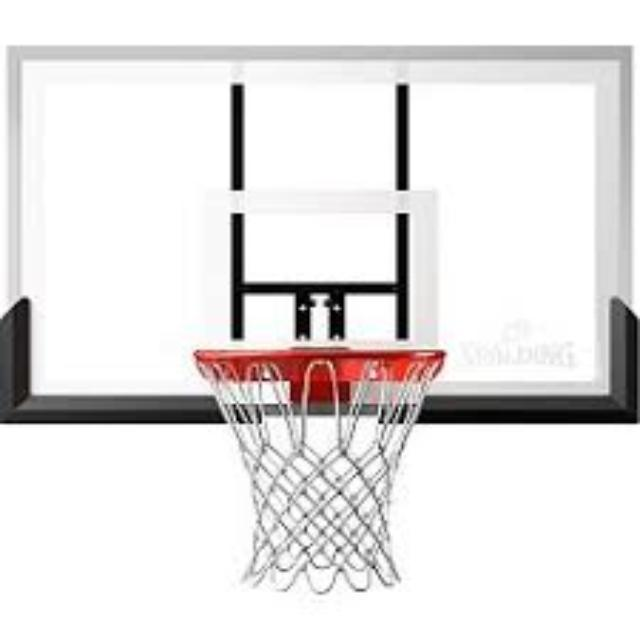rim: (197, 346, 448, 594)
